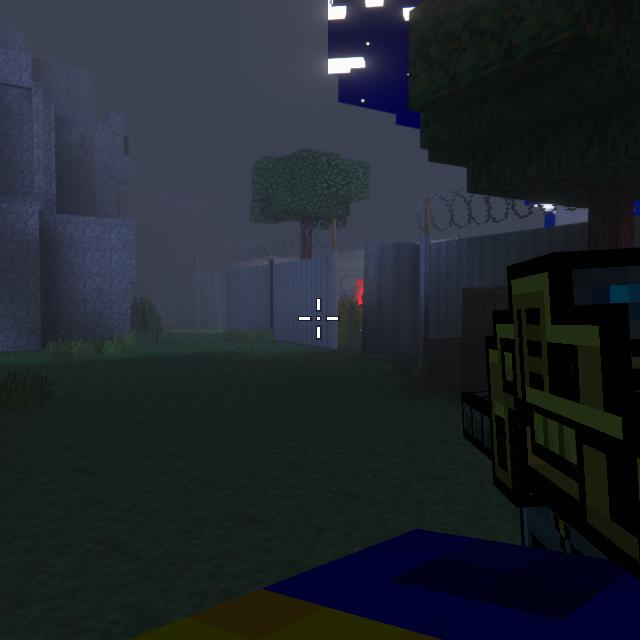Enemy: (358, 285, 363, 305)
